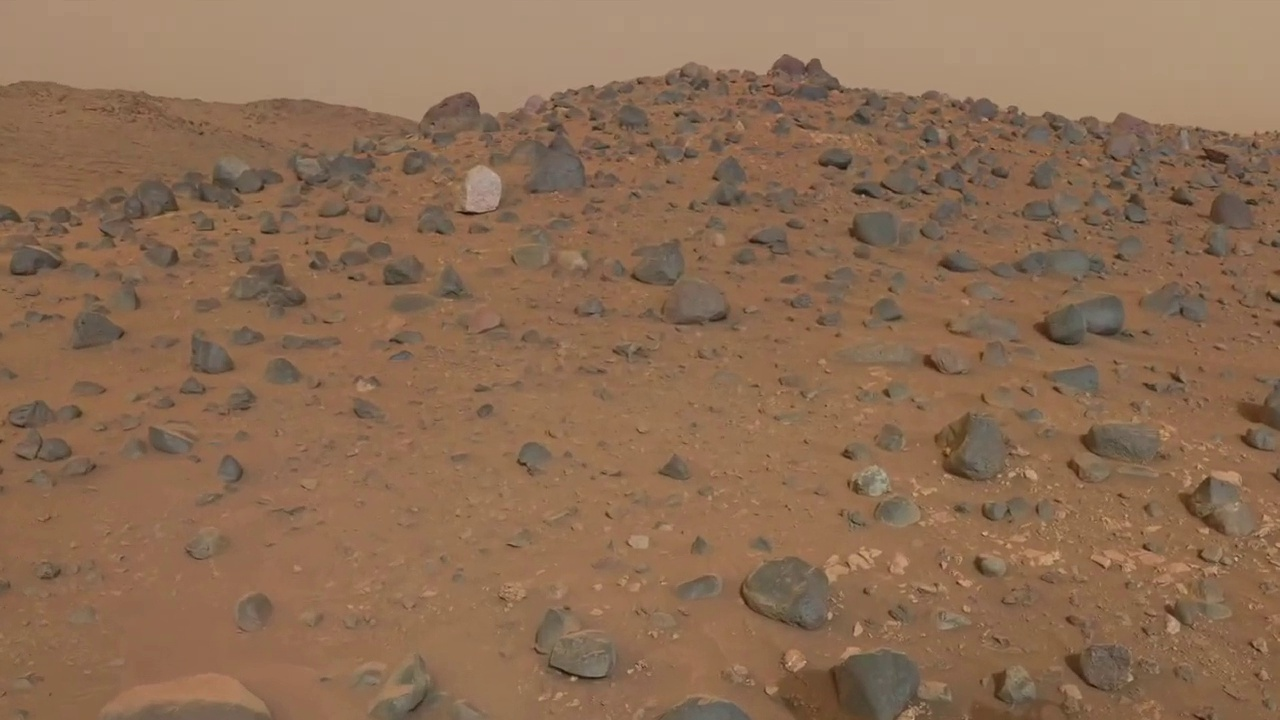rock: (769, 651, 962, 720), (739, 558, 831, 631), (934, 413, 1014, 482), (1033, 296, 1135, 346), (1063, 646, 1149, 702), (1178, 477, 1237, 536), (1079, 428, 1170, 463), (547, 650, 615, 684), (0, 401, 57, 429), (15, 437, 73, 463), (440, 271, 472, 300), (1237, 429, 1273, 452)
